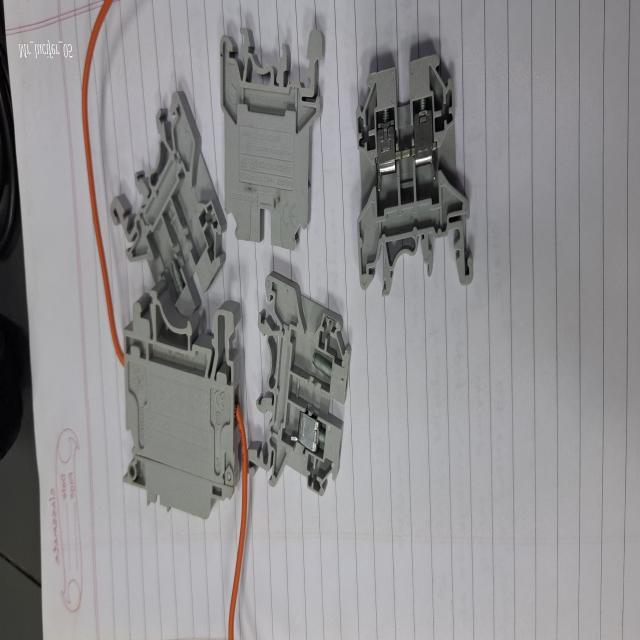Inverted: (210, 0, 333, 269)
Pass: (349, 16, 485, 326)
Reject: (241, 257, 366, 515), (89, 94, 238, 307)
